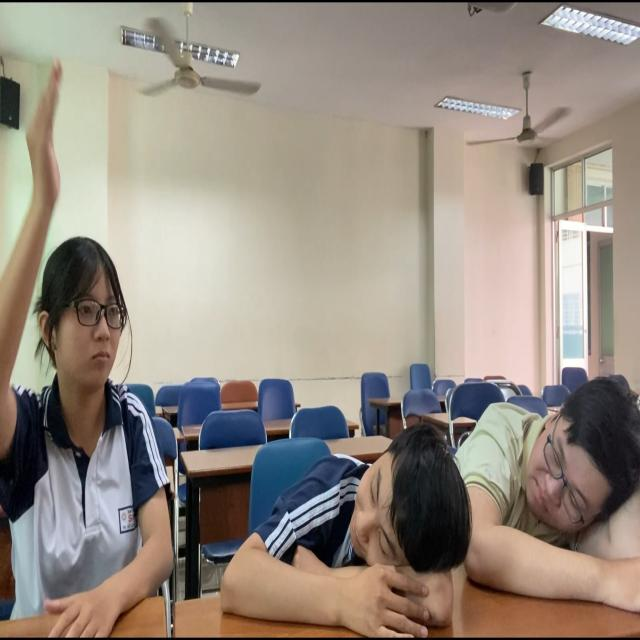raise_hand: (1, 57, 176, 640)
sleep: (204, 426, 468, 629), (461, 367, 640, 594)
